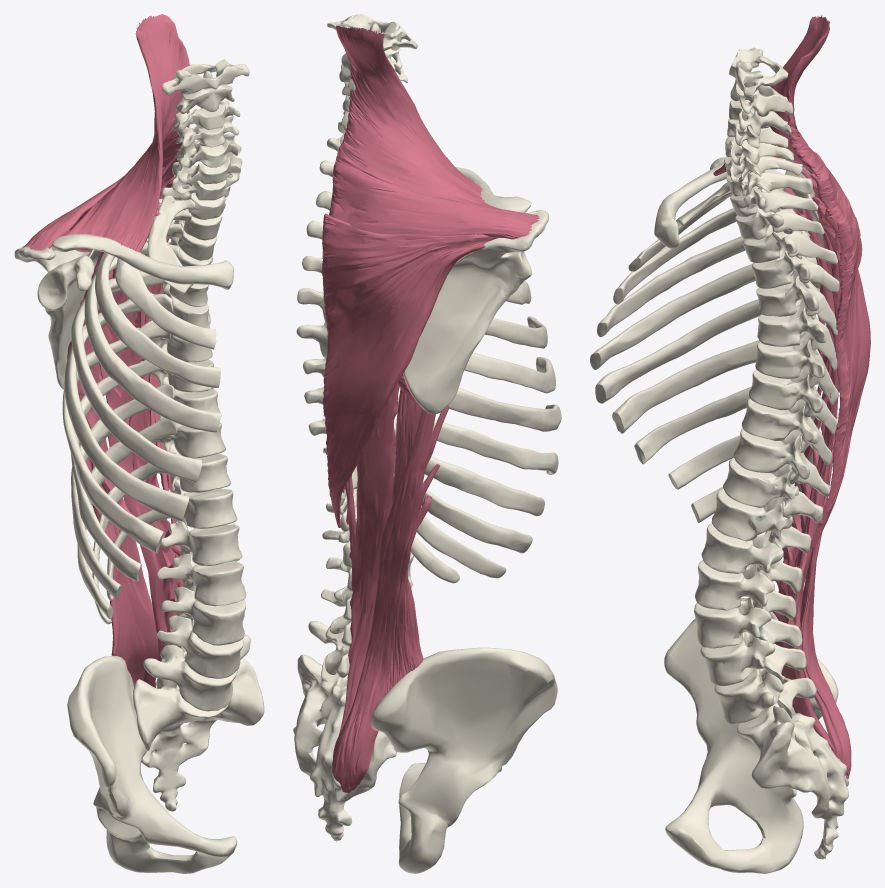
Rendered from spine.glb.
3 views of the same model, side by side, from view 1: azimuth 30°, elevation 25°; view 2: azimuth 150°, elevation 25°; view 3: azimuth 270°, elevation 25° (orthographic). The views are drawn at different scales.
Parts seen in each view (by area): view 1: hip-bone, trapezius, sacrum, longissimus-thoracis, scapula, iliocostalis-lumborum, rib-6, rib-4, rib-5, rib-3, rib-7, clavicle (+32 smaller); view 2: trapezius, hip-bone, iliocostalis-lumborum, scapula, longissimus-thoracis, sacrum, rib-9, rib-8, rib-7, rib-10, rib-6, rib-11 (+9 smaller); view 3: hip-bone, trapezius, sacrum, iliocostalis-lumborum, lumbar-3, rib-7, rib-5, lumbar-2, lumbar-1, lumbar-4, lumbar-5, thoracic-12 (+30 smaller).
Boxes of the visible parts, x1,y1,x2,y2 form: hip-bone: (67,656,237,873); trapezius: (21,14,189,492); sacrum: (133,658,264,811); longissimus-thoracis: (98,194,181,661); scapula: (14,247,101,389); iliocostalis-lumborum: (67,341,158,752); rib-6: (64,293,189,521); rib-4: (84,241,220,432); rib-5: (71,270,202,482); rib-3: (95,223,220,387); rib-7: (62,320,171,553); clavicle: (51,234,233,289); trapezius: (321,25,539,527); hip-bone: (371,647,557,873); iliocostalis-lumborum: (332,405,448,793); scapula: (403,210,548,414); longissimus-thoracis: (339,384,399,734); sacrum: (293,654,396,841); rib-9: (394,420,544,516); rib-8: (397,393,558,474); rib-7: (448,388,561,431); rib-10: (394,463,532,553); rib-6: (464,352,555,393); rib-11: (416,517,506,578); hip-bone: (664,598,838,873); trapezius: (713,15,870,548); sacrum: (737,702,848,859); iliocostalis-lumborum: (800,288,851,778); lumbar-3: (694,597,802,648); rib-7: (612,323,826,433); rib-5: (590,256,817,369); lumbar-2: (695,560,796,619); lumbar-1: (701,522,802,593); lumbar-4: (700,632,806,685); lumbar-5: (714,668,816,724); thoracic-12: (711,489,811,552).
Size of the model in its own units: 0.2247 by 0.7541 by 0.2222.
